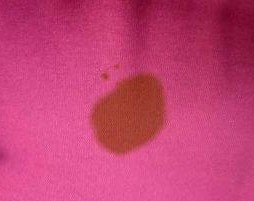stain: (90, 71, 173, 161), (99, 70, 111, 82), (112, 61, 123, 71)
